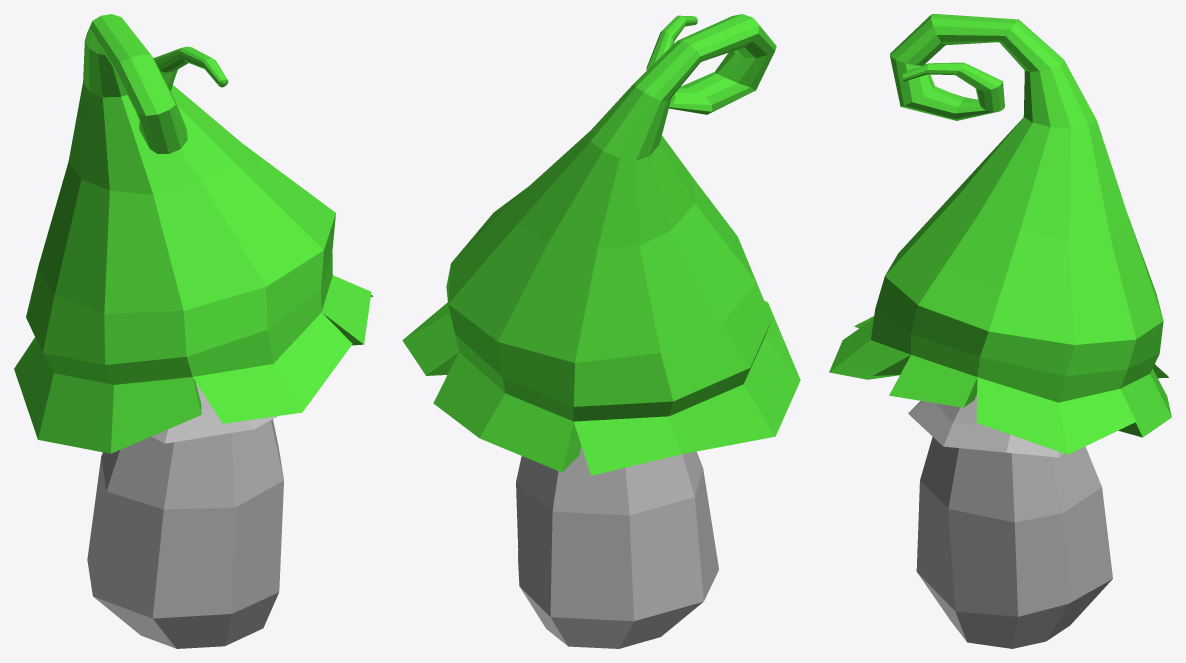
The model's file is Mushroom_1.fbx.
3 renders of one model, left to right at view 1: azimuth 30°, elevation 25°; view 2: azimuth 150°, elevation 25°; view 3: azimuth 270°, elevation 25°, orthographic. The views are drawn at different scales.
Parts seen in each view (by area): view 1: PP_Mushroom_Fantasy_Orange_09; view 2: PP_Mushroom_Fantasy_Orange_09; view 3: PP_Mushroom_Fantasy_Orange_09.
Boxes of the visible parts, x1,y1,x2,y2 form: PP_Mushroom_Fantasy_Orange_09: (14,14,373,648); PP_Mushroom_Fantasy_Orange_09: (402,14,800,648); PP_Mushroom_Fantasy_Orange_09: (829,14,1171,648).
Size of the model in its own units: 21.23 by 36.73 by 20.24.
